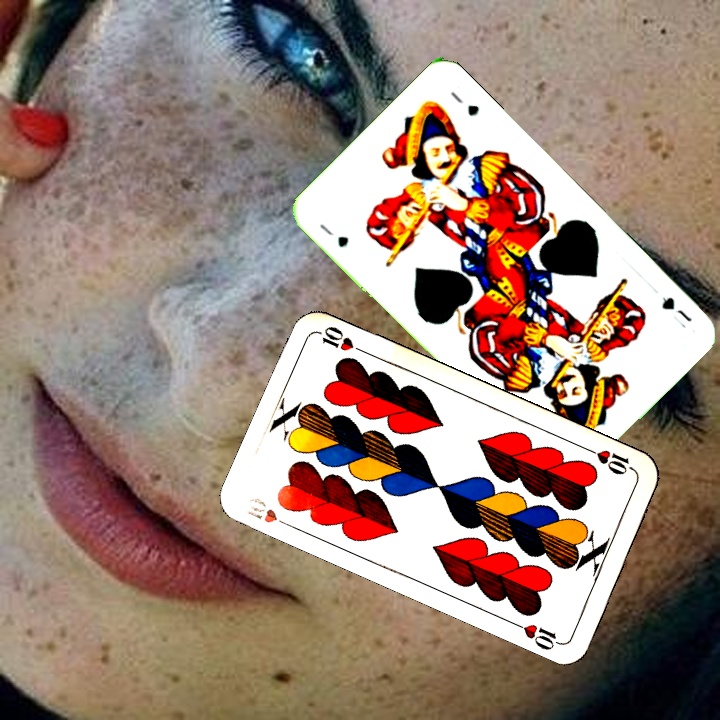GU: (657, 292, 695, 331), (315, 219, 351, 251)
H10: (243, 493, 296, 531), (582, 444, 638, 478)
